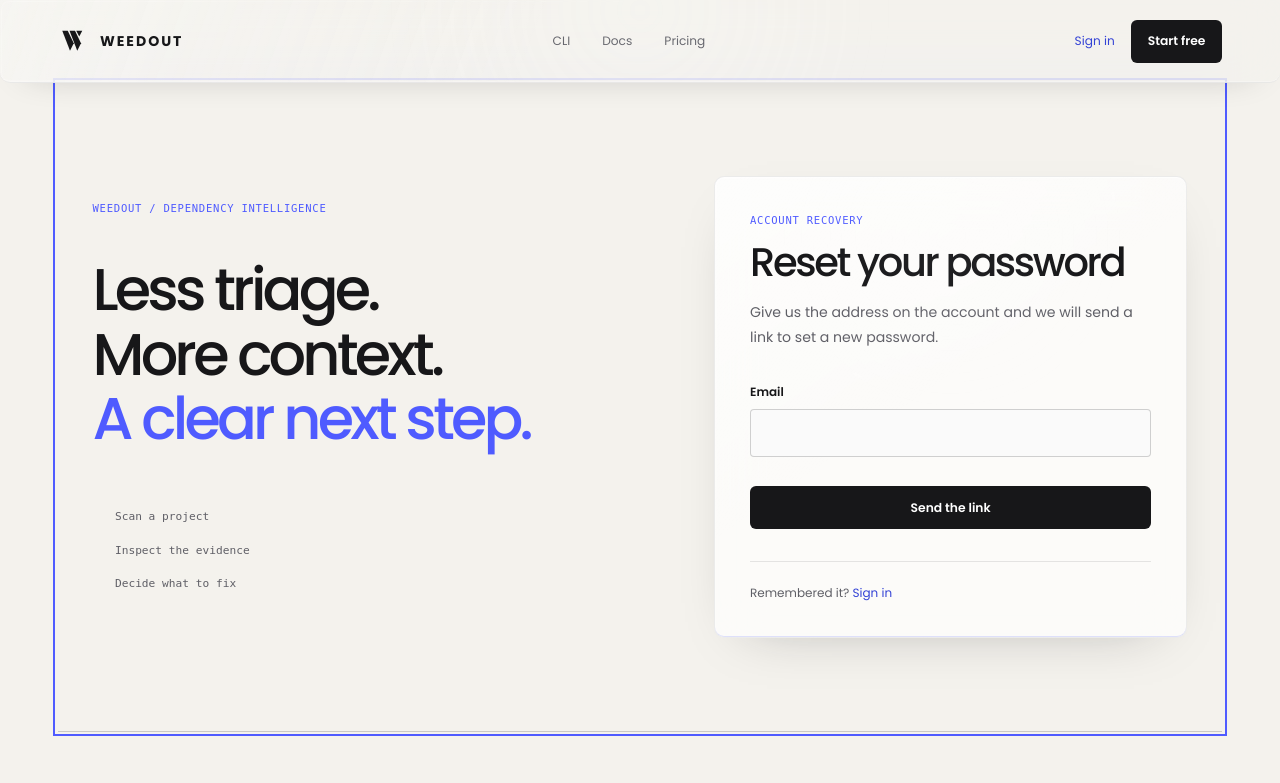
Test case: password recovery › says the same thing whatever address was given
In the field labelled "Email": (951, 433) [750, 409, 1151, 457], type "nobody@example.com"
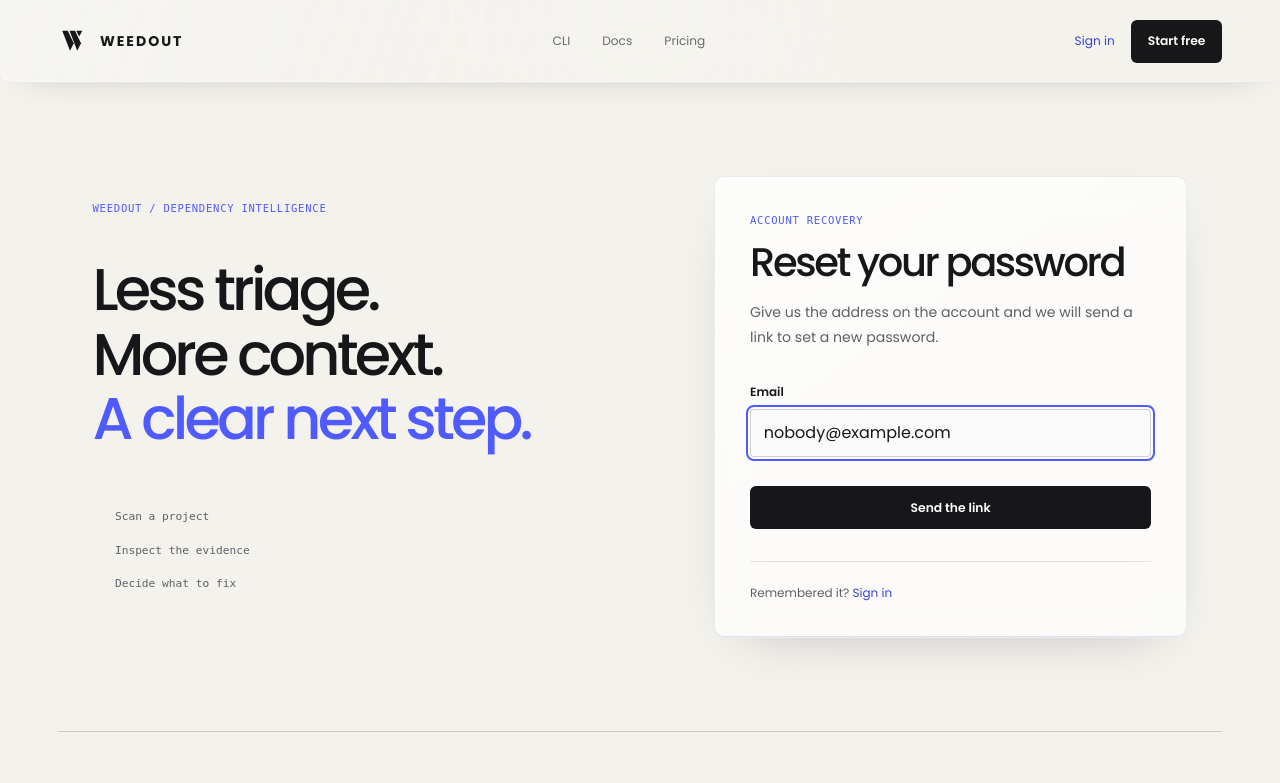
Click the button "Send the link": click(951, 508) [750, 486, 1151, 529]
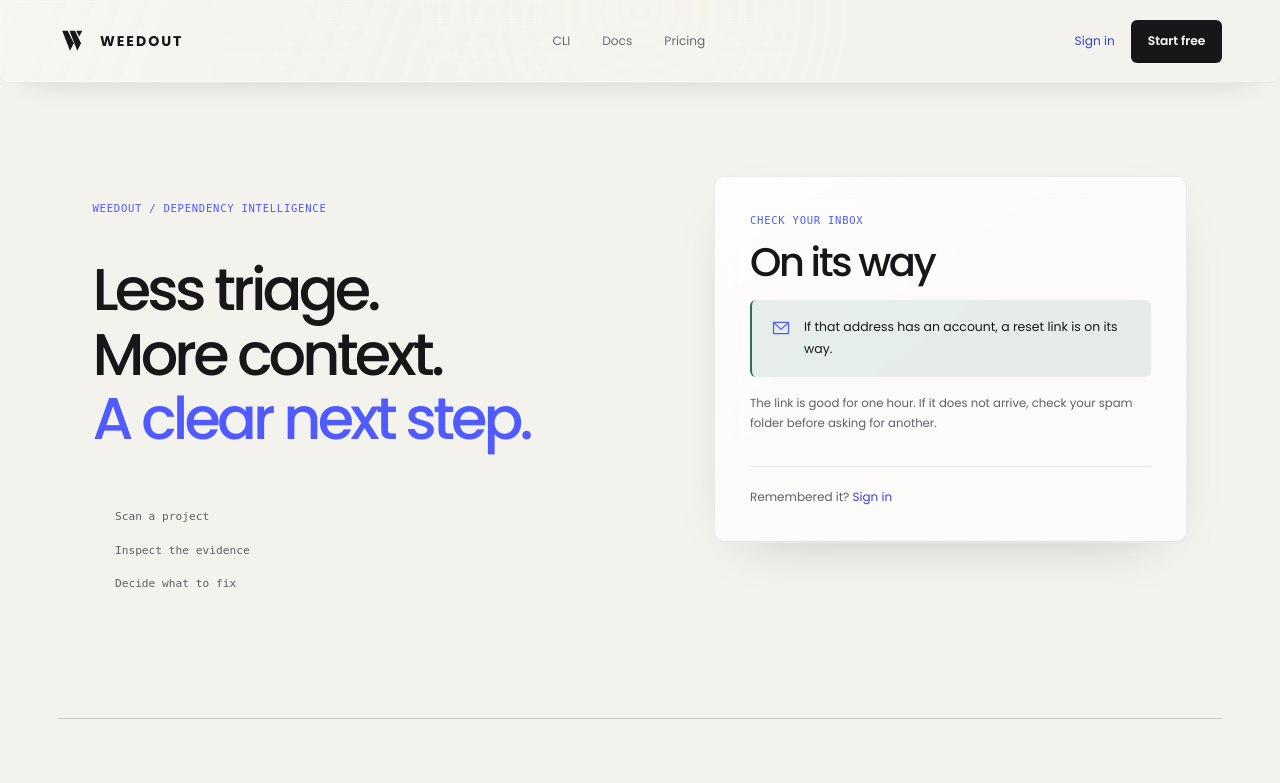
Result: the text "If that address has an account, a reset link is on its way." is shown at [804, 316, 1132, 361]
